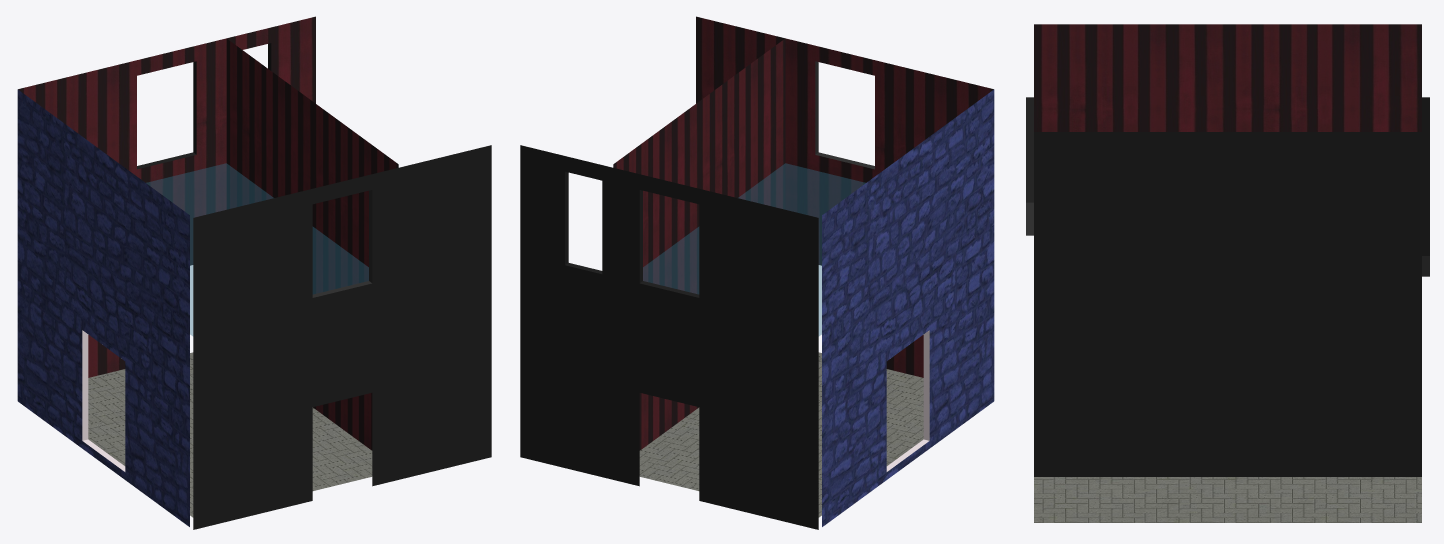
3 views of the same model, side by side, from view 1: azimuth 30°, elevation 25°; view 2: azimuth 150°, elevation 25°; view 3: azimuth 270°, elevation 25° (orthographic). The views are drawn at different scales.
Parts seen in each view (by area): view 1: 1-InteriorWall_tcollider.032, 1-Entrance_tcollider.001, 1-InteriorWall_tcollider.027, 1-InteriorWall_tcollider.038, 1-DoubleFloor(1Wall).InsideCeiling_tcollider.002; view 2: 1-InteriorWall_tcollider.038, 1-Entrance_tcollider.001, 1-InteriorWall_tcollider.027, 1-InteriorWall_tcollider.032, 1-DoubleFloor(1Wall).InsideCeiling_tcollider.002; view 3: 1-InteriorWall_tcollider.027, 1-Entrance_tcollider.001, 1-DoubleFloor(1Wall).InsideCeiling_tcollider.002, 1-InteriorWall_tcollider.038, 1-InteriorWall_tcollider.032.
Boxes of the visible parts, x1,y1,x2,y2 form: 1-InteriorWall_tcollider.032: (193,145,491,529); 1-Entrance_tcollider.001: (17,89,189,526); 1-InteriorWall_tcollider.027: (226,39,398,450); 1-InteriorWall_tcollider.038: (18,16,315,377); 1-DoubleFloor(1Wall).InsideCeiling_tcollider.002: (88,163,372,517); 1-InteriorWall_tcollider.038: (520,145,818,529); 1-Entrance_tcollider.001: (822,89,994,526); 1-InteriorWall_tcollider.027: (613,39,785,450); 1-InteriorWall_tcollider.032: (696,16,993,377); 1-DoubleFloor(1Wall).InsideCeiling_tcollider.002: (639,163,923,517); 1-InteriorWall_tcollider.027: (1034,132,1421,476); 1-Entrance_tcollider.001: (1034,24,1421,131); 1-DoubleFloor(1Wall).InsideCeiling_tcollider.002: (1034,477,1421,522); 1-InteriorWall_tcollider.038: (1422,97,1429,276); 1-InteriorWall_tcollider.032: (1026,97,1033,235).
Size of the model in its own units: 10 by 10 by 10.4.
Materials: 6 (6 with a texture image).
